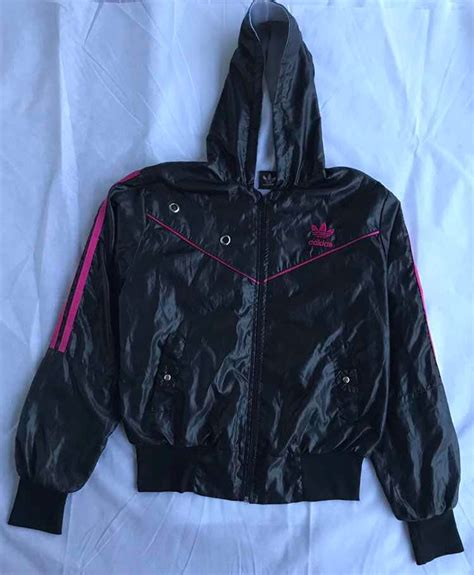nylon: (14, 1, 461, 520)
